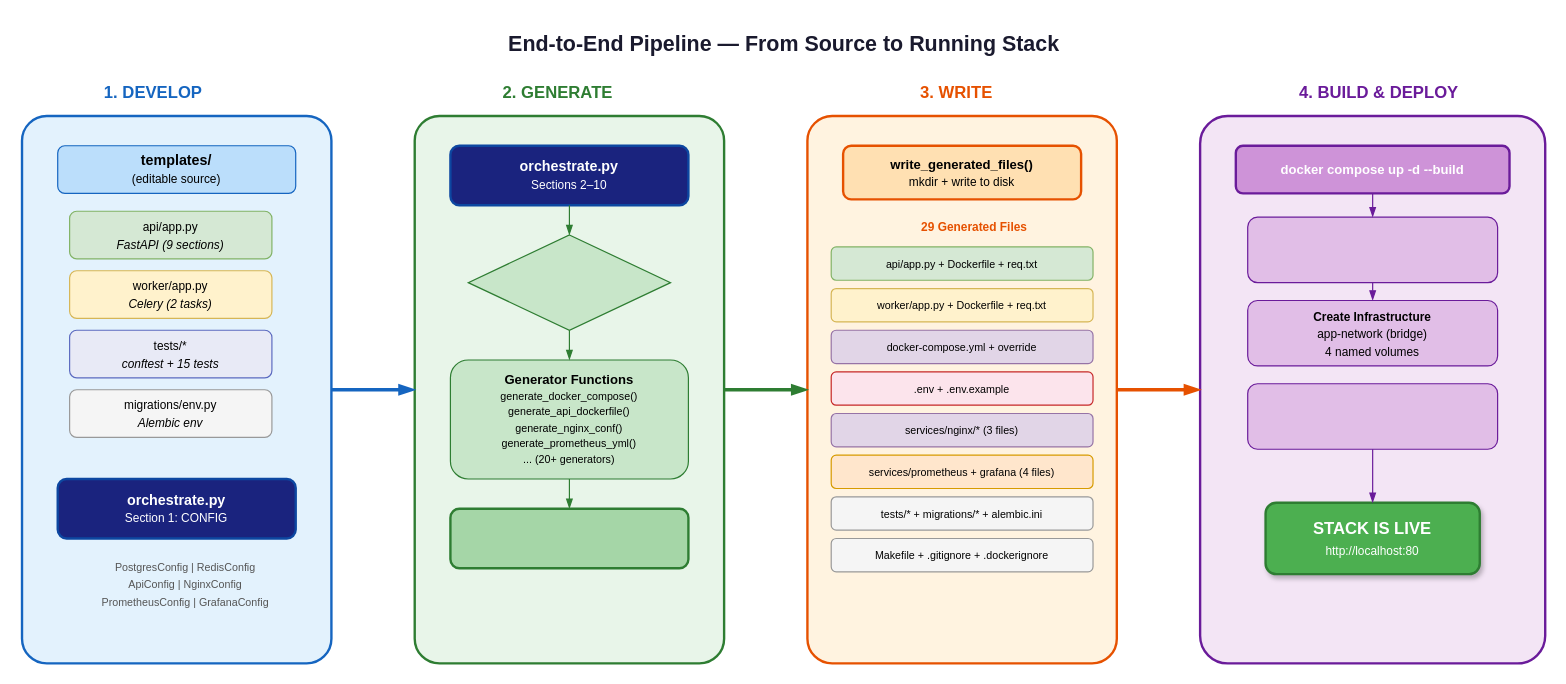
Some shapes in this 1566 by 684 pixel diagram are drawn without their labels. The shapes that lost their labels are listed below. From the top down, each one's centre as x and y in pixels, then its label:
pixel 1372 249: Build Images Multi-stage Dockerfiles Non-root appuser
pixel 569 282: Jinja2 Engine << marker >> → values
pixel 1372 416: Start 7 Services Dependency-ordered Health check gates
pixel 569 538: get_file_manifest() 29 (path, content, desc)
